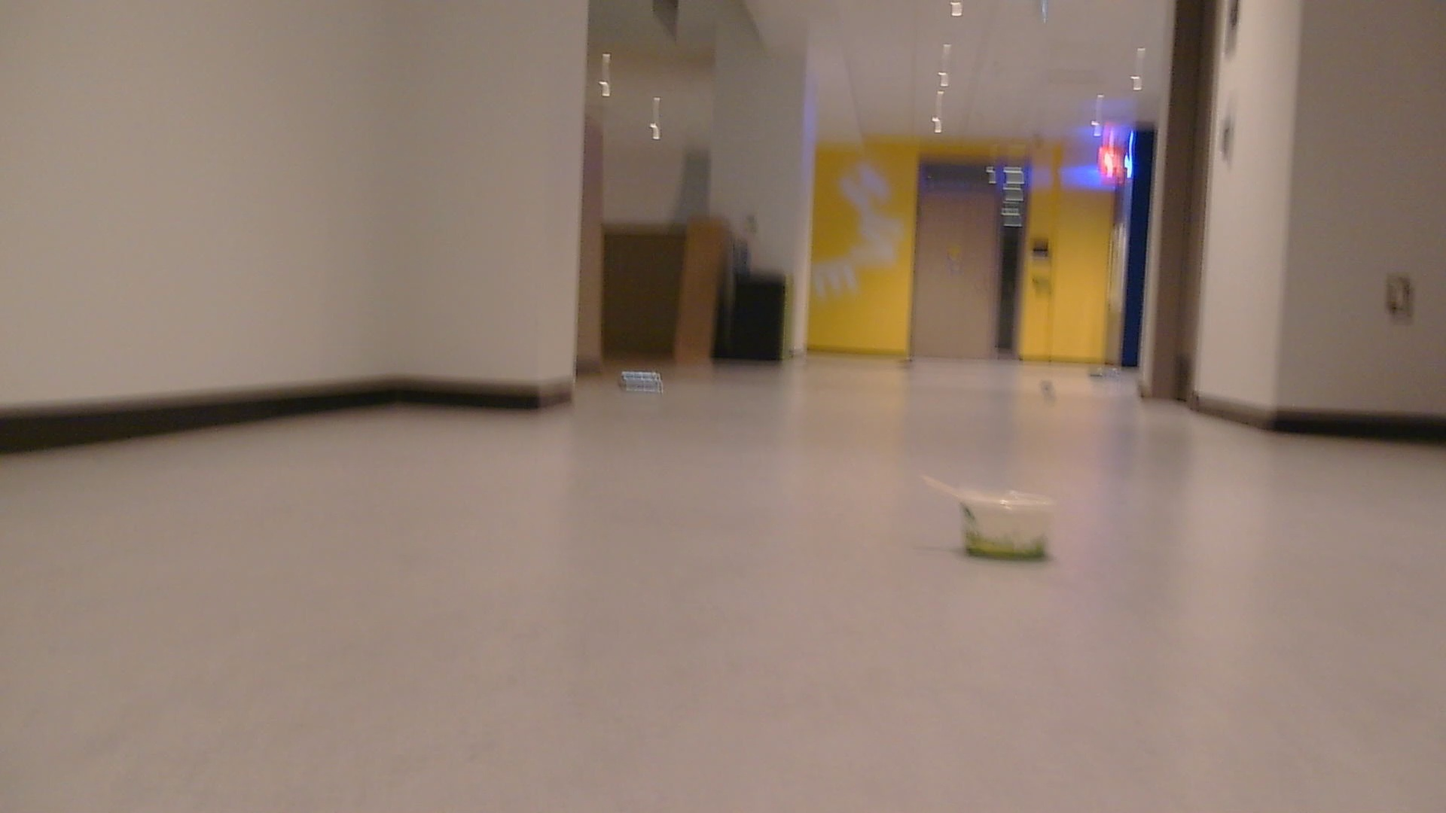carton: (949, 479, 1062, 560), (614, 372, 670, 395), (1090, 358, 1125, 382), (887, 357, 917, 371), (1046, 381, 1056, 395)
